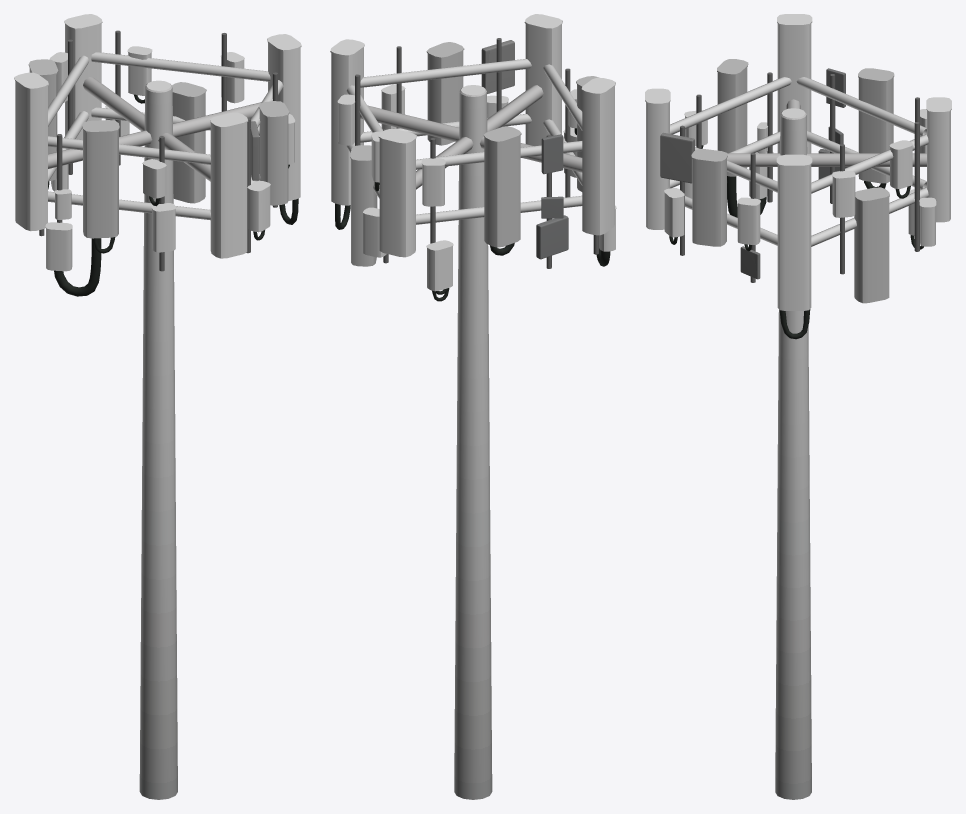
File: SM_5G_Tower.fbx
3 views of the same model, side by side, from view 1: azimuth 30°, elevation 25°; view 2: azimuth 150°, elevation 25°; view 3: azimuth 270°, elevation 25° (orthographic). The views are drawn at different scales.
Visible parts, largest first — view 1: Square_Tower_export; view 2: Square_Tower_export; view 3: Square_Tower_export.
Boxes of the visible parts, bbox=[...] form: Square_Tower_export: bbox=[14, 14, 301, 799]; Square_Tower_export: bbox=[330, 14, 616, 799]; Square_Tower_export: bbox=[645, 14, 951, 799].
Bounding box in the file's own units: 1152 × 2960 × 1154.
Materials: 1 (1 with a texture image).
